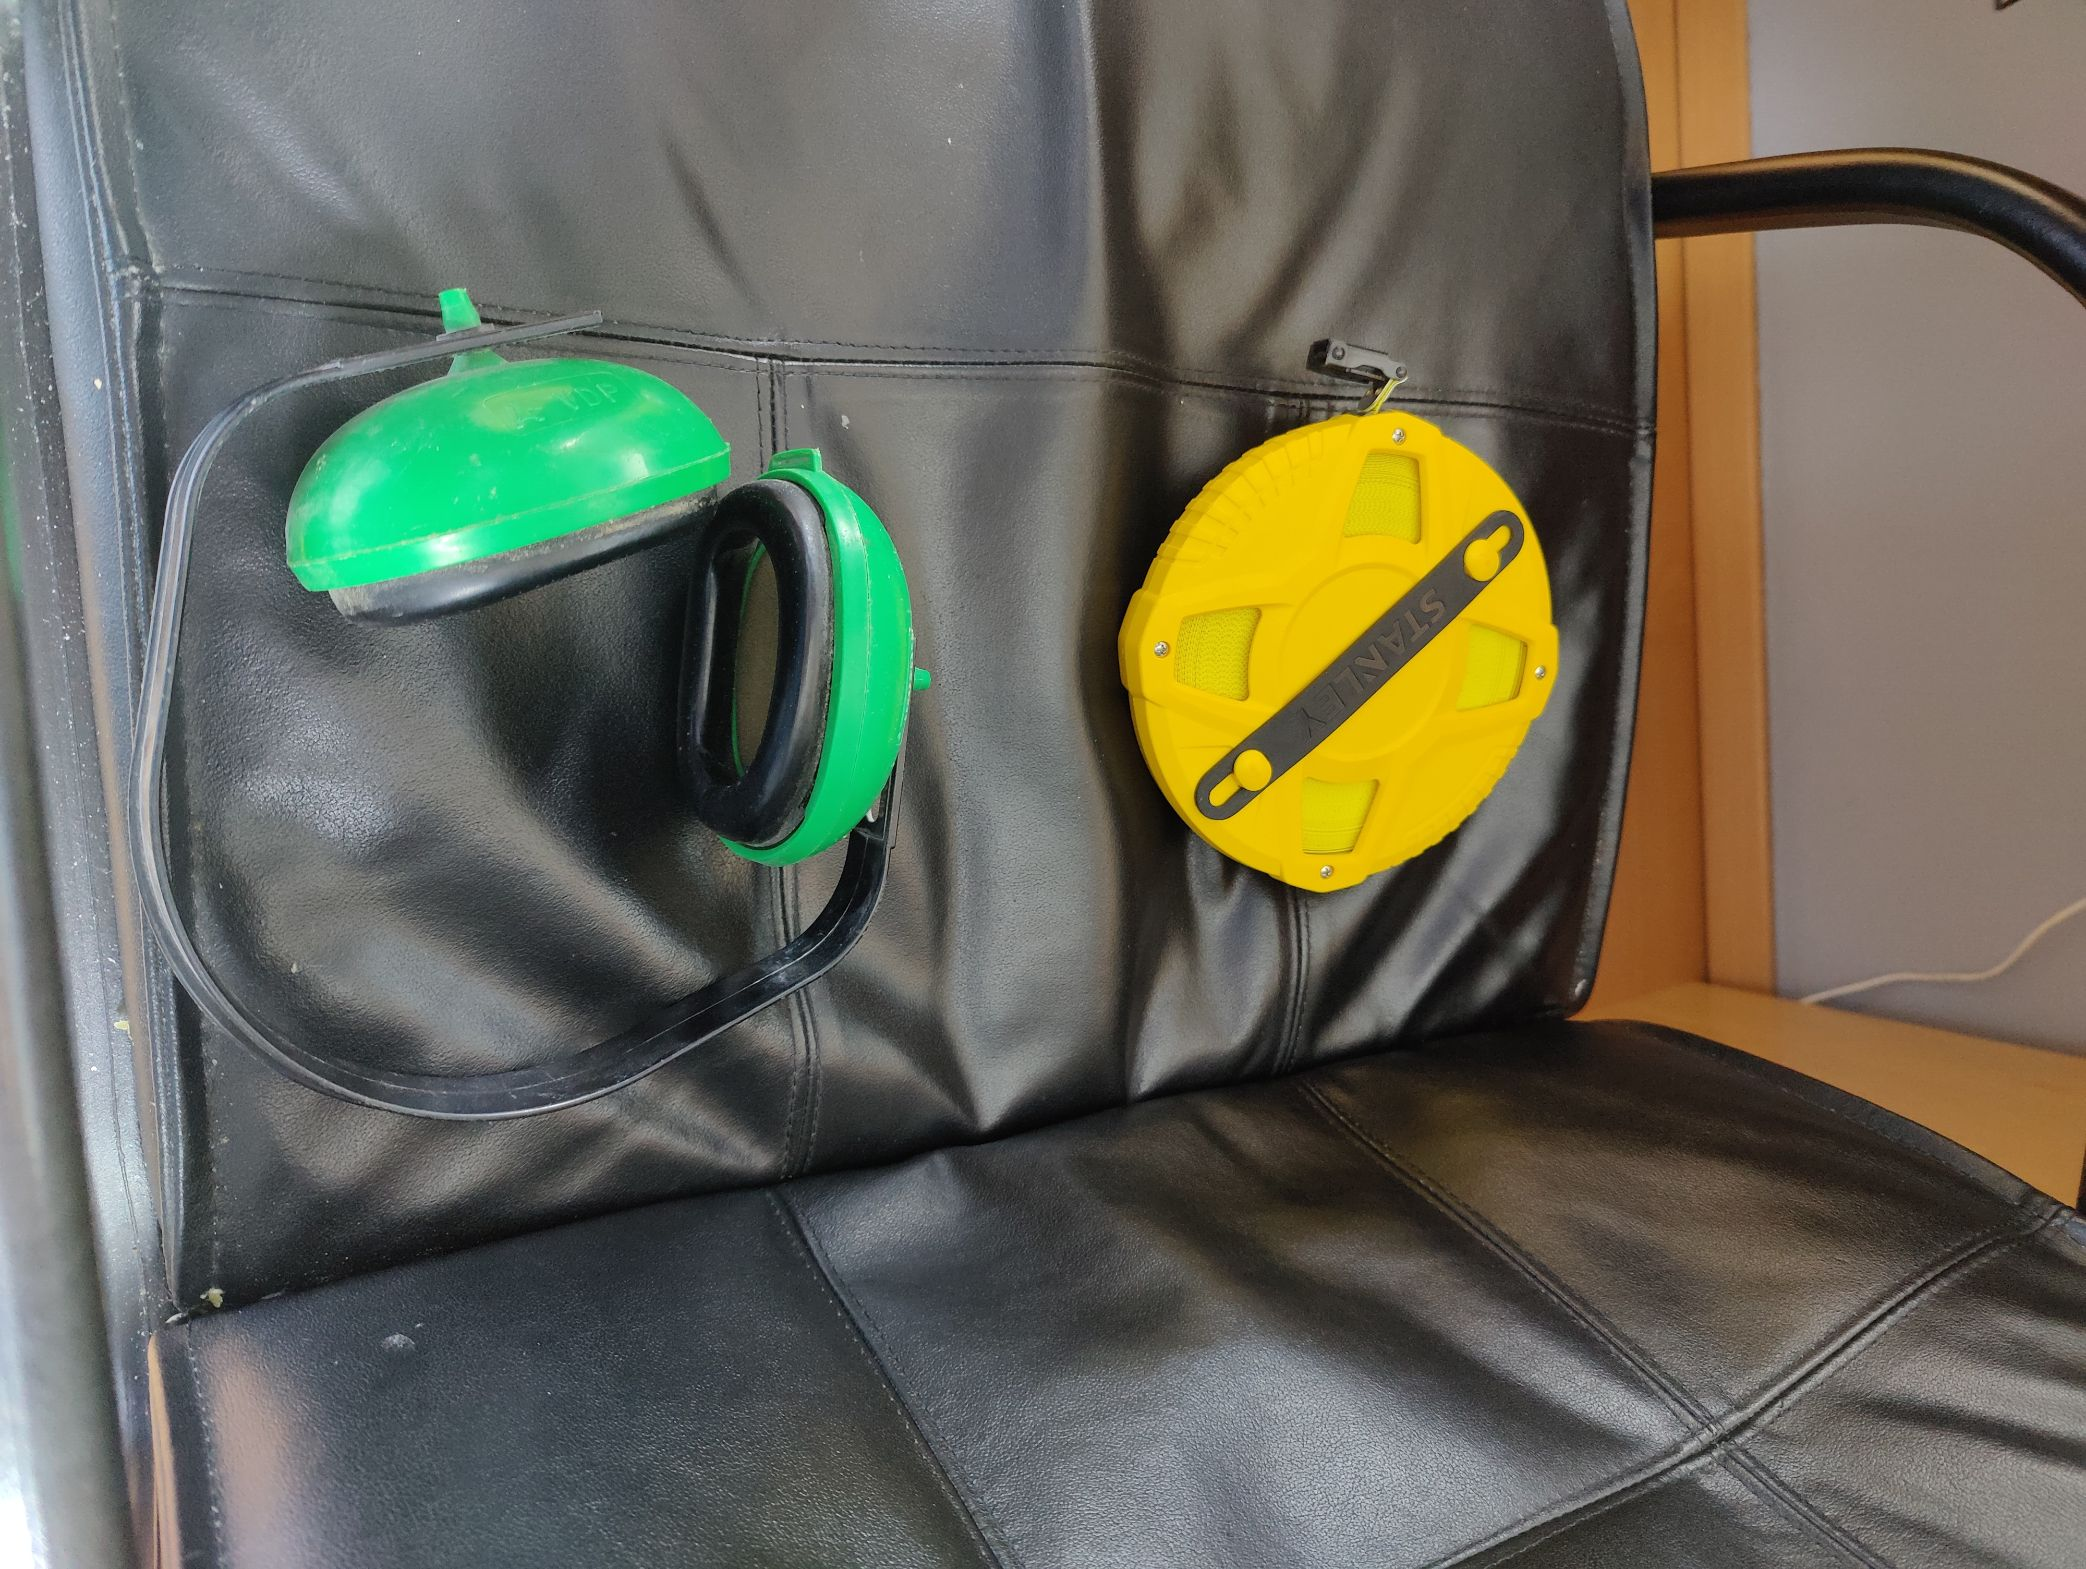headphones: (129, 288, 933, 1126)
tapemeasure: (1115, 326, 1564, 900)
